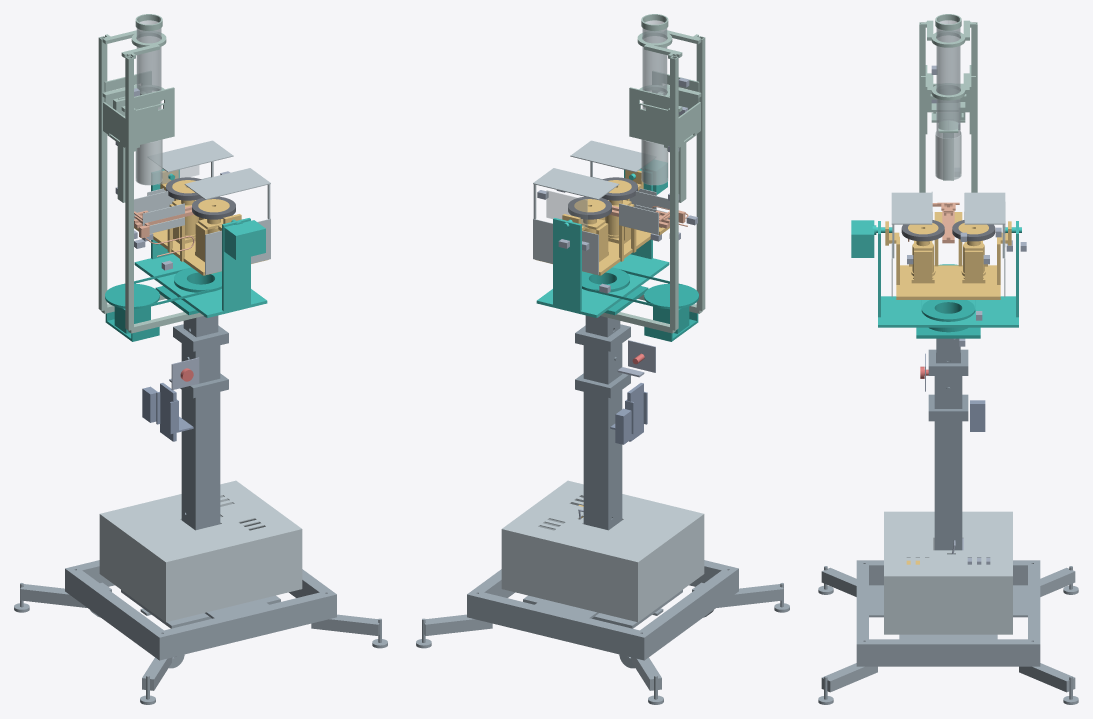
File: BM1_V0_assembly.glb
3 views of the same model, side by side, from view 1: azimuth 30°, elevation 25°; view 2: azimuth 150°, elevation 25°; view 3: azimuth 270°, elevation 25° (orthographic). The views are drawn at different scales.
Parts seen in each view (by area): view 1: PRT-0803-A, PRT-0201, PRT-0101-A__-1, PRT-0803-B, PRT-0101-B__-1, PRT-0602-A__R, PRT-0602-A__L, PRT-0601, PRT-0401-A, PRT-0602-F__-1, PRT-0401-B__-1, PRT-0801-B__R (+21 smaller); view 2: PRT-0803-A, PRT-0201, PRT-0101-A__1, PRT-0803-B, PRT-0101-B__-1, PRT-0601, PRT-0602-A__L, PRT-0602-A__R, PRT-0401-B__1, PRT-0401-A, PRT-0602-F__1, PRT-0801-A__L (+20 smaller); view 3: PRT-0803-A, PRT-0201, PRT-0101-B__1, PRT-0601, PRT-0401-A, PRT-0501-A, PRT-0101-A__-1, PRT-0101-A__1, PRT-0801-B__L, PRT-0801-B__R, PRT-0606, PRT-0602-A__L (+18 smaller).
Boxes of the visible parts, x1,y1,x2,y2 form: PRT-0803-A: [99, 480, 302, 622]; PRT-0201: [181, 327, 220, 530]; PRT-0101-A__-1: [153, 590, 336, 660]; PRT-0803-B: [101, 517, 164, 618]; PRT-0101-B__-1: [71, 570, 163, 655]; PRT-0602-A__R: [125, 55, 133, 330]; PRT-0602-A__L: [98, 36, 107, 310]; PRT-0601: [136, 20, 161, 184]; PRT-0401-A: [134, 254, 267, 317]; PRT-0602-F__-1: [134, 87, 174, 146]; PRT-0401-B__-1: [222, 218, 250, 311]; PRT-0801-B__R: [184, 168, 270, 199]; PRT-0803-A: [501, 480, 704, 622]; PRT-0201: [583, 327, 622, 530]; PRT-0101-A__1: [467, 590, 650, 660]; PRT-0803-B: [639, 517, 702, 618]; PRT-0101-B__-1: [640, 570, 732, 655]; PRT-0601: [642, 20, 667, 184]; PRT-0602-A__L: [670, 55, 678, 330]; PRT-0602-A__R: [696, 36, 705, 310]; PRT-0401-B__1: [553, 218, 581, 311]; PRT-0401-A: [536, 254, 669, 317]; PRT-0602-F__1: [629, 87, 669, 146]; PRT-0801-A__L: [533, 218, 598, 274]; PRT-0803-A: [884, 511, 1012, 634]; PRT-0201: [934, 352, 962, 554]; PRT-0101-B__1: [869, 639, 1027, 666]; PRT-0601: [936, 20, 960, 179]; PRT-0401-A: [878, 296, 1018, 327]; PRT-0501-A: [896, 265, 1000, 299]; PRT-0101-A__-1: [856, 560, 868, 666]; PRT-0101-A__1: [1028, 560, 1040, 666]; PRT-0801-B__L: [964, 192, 1005, 224]; PRT-0801-B__R: [891, 192, 932, 224]; PRT-0606: [935, 131, 961, 180]; PRT-0602-A__L: [971, 22, 977, 192].
Size of the model in its own units: 0.9 by 2.17 by 0.85.
